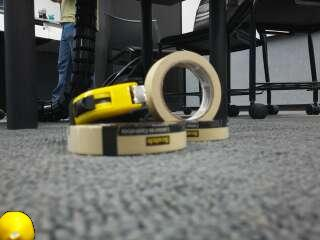lemon: (1, 213, 34, 240)
